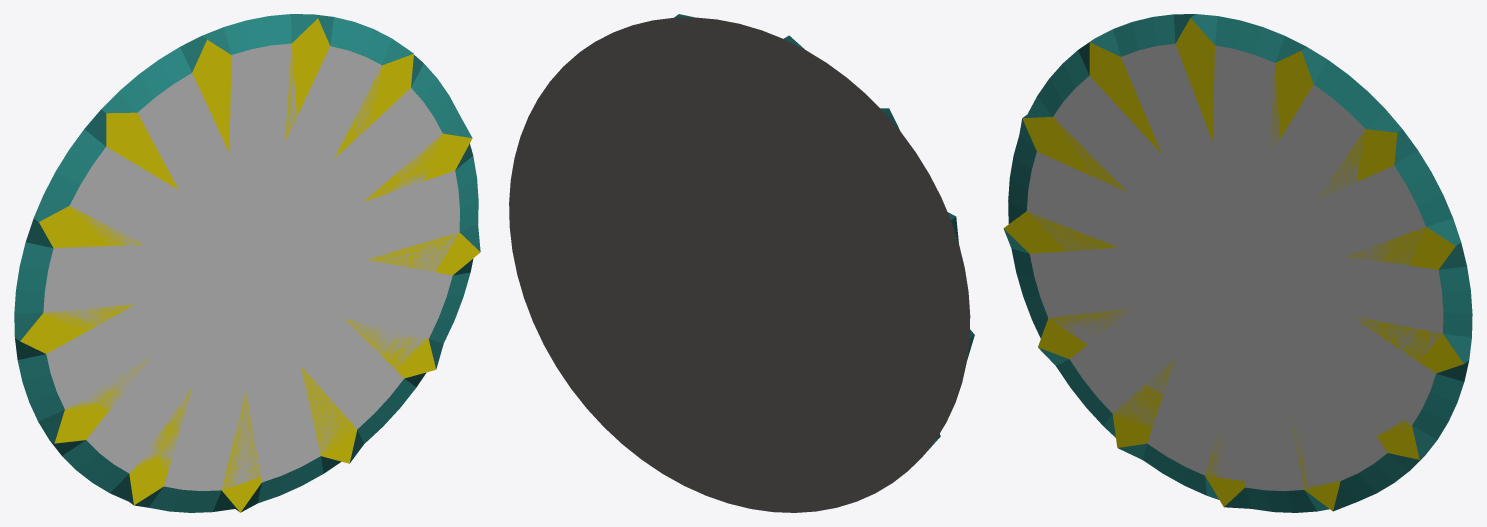
File: PlaEqui centro3.fbx
3 views of the same model, side by side, from view 1: azimuth 30°, elevation 25°; view 2: azimuth 150°, elevation 25°; view 3: azimuth 330°, elevation 25° (orthographic).
Parts seen in each view (by area): view 1: centro, brilhinocs, centro2, centro1; view 2: centro, centro1; view 3: centro, brilhinocs, centro2, centro1.
Part boxes in pixels (box(x1,y1,x2,y2)): centro: box(43, 43, 459, 490); brilhinocs: box(20, 18, 480, 512); centro2: box(14, 14, 478, 512); centro1: box(14, 14, 480, 512); centro: box(509, 17, 970, 512); centro1: box(580, 14, 974, 454); centro: box(1026, 43, 1443, 490); brilhinocs: box(1003, 18, 1463, 511); centro2: box(1008, 14, 1472, 512); centro1: box(1004, 14, 1471, 511).
Bounding box in the file's own units: 200 × 200 × 3.91.
